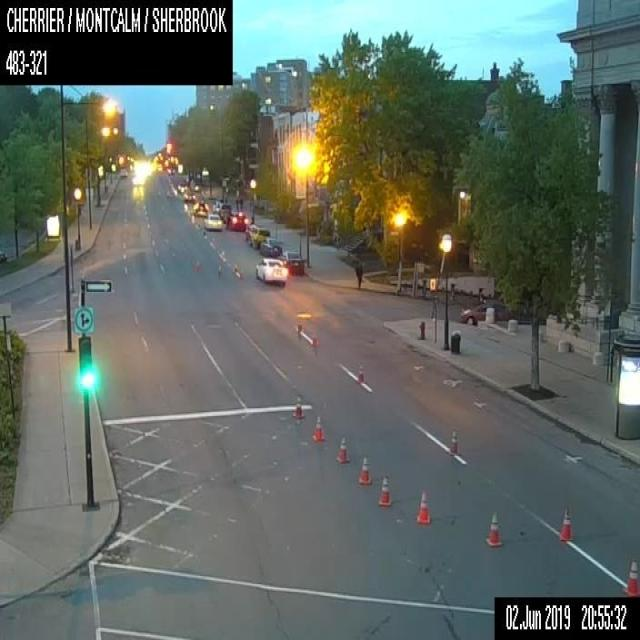construction: (483, 509, 501, 546), (623, 558, 639, 596), (377, 473, 392, 506), (415, 489, 430, 522), (559, 506, 572, 540), (357, 454, 371, 484), (335, 434, 348, 462), (311, 415, 324, 441), (292, 393, 304, 418), (448, 425, 458, 455), (356, 360, 365, 382), (296, 321, 302, 337), (232, 261, 238, 277), (312, 331, 316, 347), (217, 262, 221, 276)
pedestrian: (355, 261, 362, 288), (235, 197, 238, 209), (239, 197, 242, 209)
vehicle: (456, 295, 508, 324), (255, 257, 287, 285), (279, 250, 304, 274), (260, 236, 282, 257), (250, 226, 270, 249), (225, 210, 247, 230), (212, 201, 232, 222), (203, 212, 222, 231), (192, 200, 208, 217), (245, 224, 257, 243), (183, 190, 194, 202), (176, 182, 187, 192), (119, 168, 127, 177), (167, 168, 174, 175)
